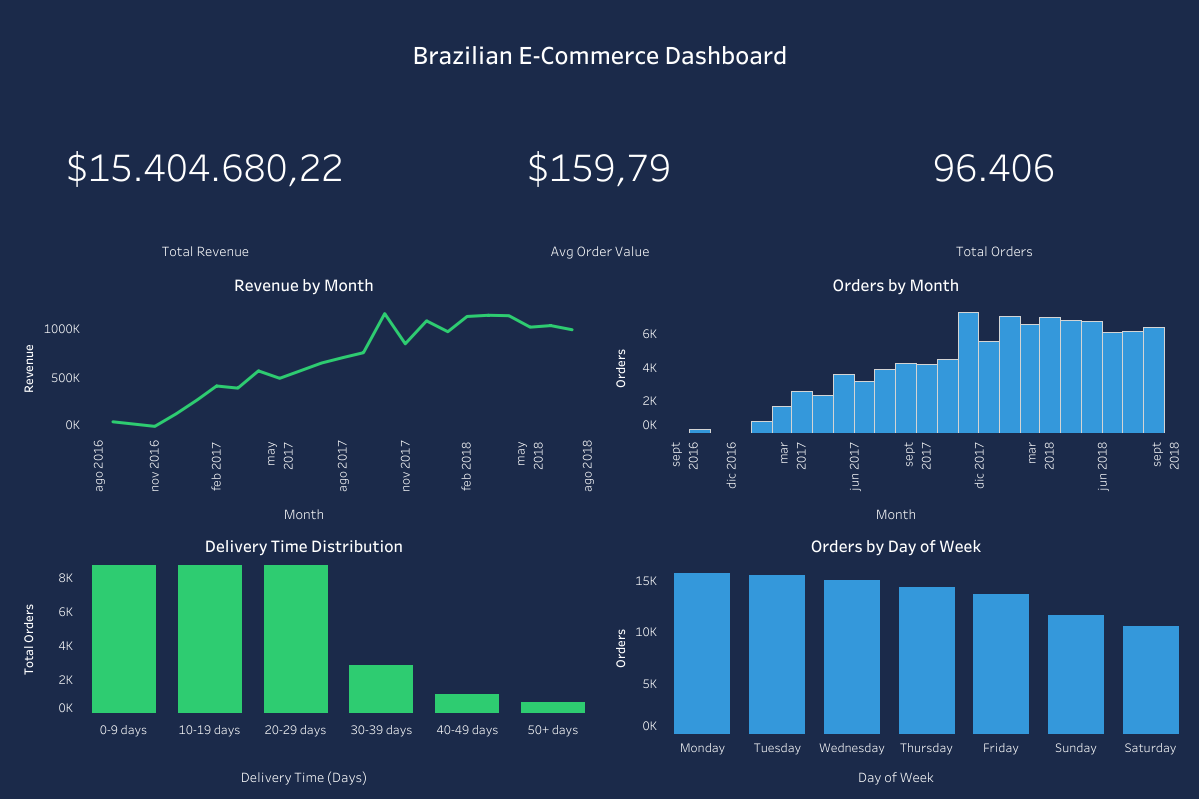

What the dashboard file says about the page in this screenshot:
{"tool":"tableau","page":{"name":"Dashboard 1","canvas":[1200,800],"ordinal":0},"visuals":[{"type":"text","box":[8,8,1184,91]},{"type":"worksheet","title":"KPI Total Revenue","mark":"Automatic","box":[8,99,394.7,135]},{"type":"worksheet","title":"KPI Avg Ticket","mark":"Automatic","box":[402.7,99,394.7,135]},{"type":"worksheet","title":"KPI Total Orders","mark":"Automatic","box":[797.3,99,394.7,135]},{"type":"text","box":[8,234,394.7,32]},{"type":"text","box":[402.7,234,394.7,32]},{"type":"text","box":[797.3,234,394.7,32]},{"type":"text","box":[8,266,592,36]},{"type":"text","box":[600,266,592,36]},{"type":"worksheet","title":"Revenue by Month","mark":"Line","rows":["Calculation_1084451156611072"],"cols":["order_purchase_timestamp"],"box":[8,302,592,195]},{"type":"worksheet","title":"Orders by Month","mark":"Bar","rows":["Calculation_1084451159146498"],"cols":["order_purchase_timestamp"],"box":[600,302,592,195]},{"type":"text","box":[8,497,592,32]},{"type":"text","box":[600,497,592,32]},{"type":"text","box":[8,529,592,32]},{"type":"text","box":[600,529,592,32]},{"type":"worksheet","title":"Delivery Time Distribution","mark":"Bar","rows":["Calculation_1084451159146498"],"box":[8,561,592,199]},{"type":"worksheet","title":"Orders by Day of Week","mark":"Bar","rows":["Calculation_1084451159146498"],"cols":["Calculation_1084451728068611"],"box":[600,561,592,199]},{"type":"text","box":[8,760,592,32]},{"type":"text","box":[600,760,592,32]}]}

Visuals, with their boxes in screenshot pixels (x1, y1, x2, y2), scaled from the page's 1200x800 canvas onto the 1199x799 screenshot:
text: 8:8:1191:99
"KPI Total Revenue" worksheet: 8:99:402:234
"KPI Avg Ticket" worksheet: 402:99:797:234
"KPI Total Orders" worksheet: 797:99:1191:234
text: 8:234:402:266
text: 402:234:797:266
text: 797:234:1191:266
text: 8:266:600:302
text: 600:266:1191:302
"Revenue by Month" worksheet (Line marks): 8:302:600:496
"Orders by Month" worksheet (Bar marks): 600:302:1191:496
text: 8:496:600:528
text: 600:496:1191:528
text: 8:528:600:560
text: 600:528:1191:560
"Delivery Time Distribution" worksheet (Bar marks): 8:560:600:759
"Orders by Day of Week" worksheet (Bar marks): 600:560:1191:759
text: 8:759:600:791
text: 600:759:1191:791
